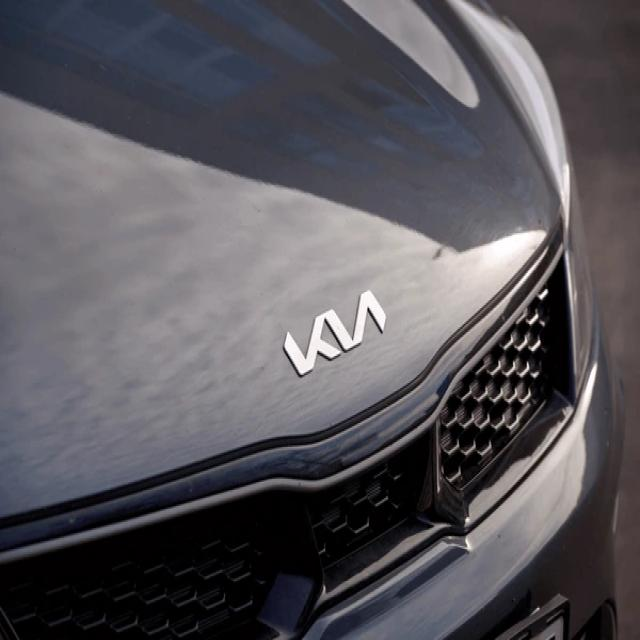kia: (279, 286, 391, 382)
